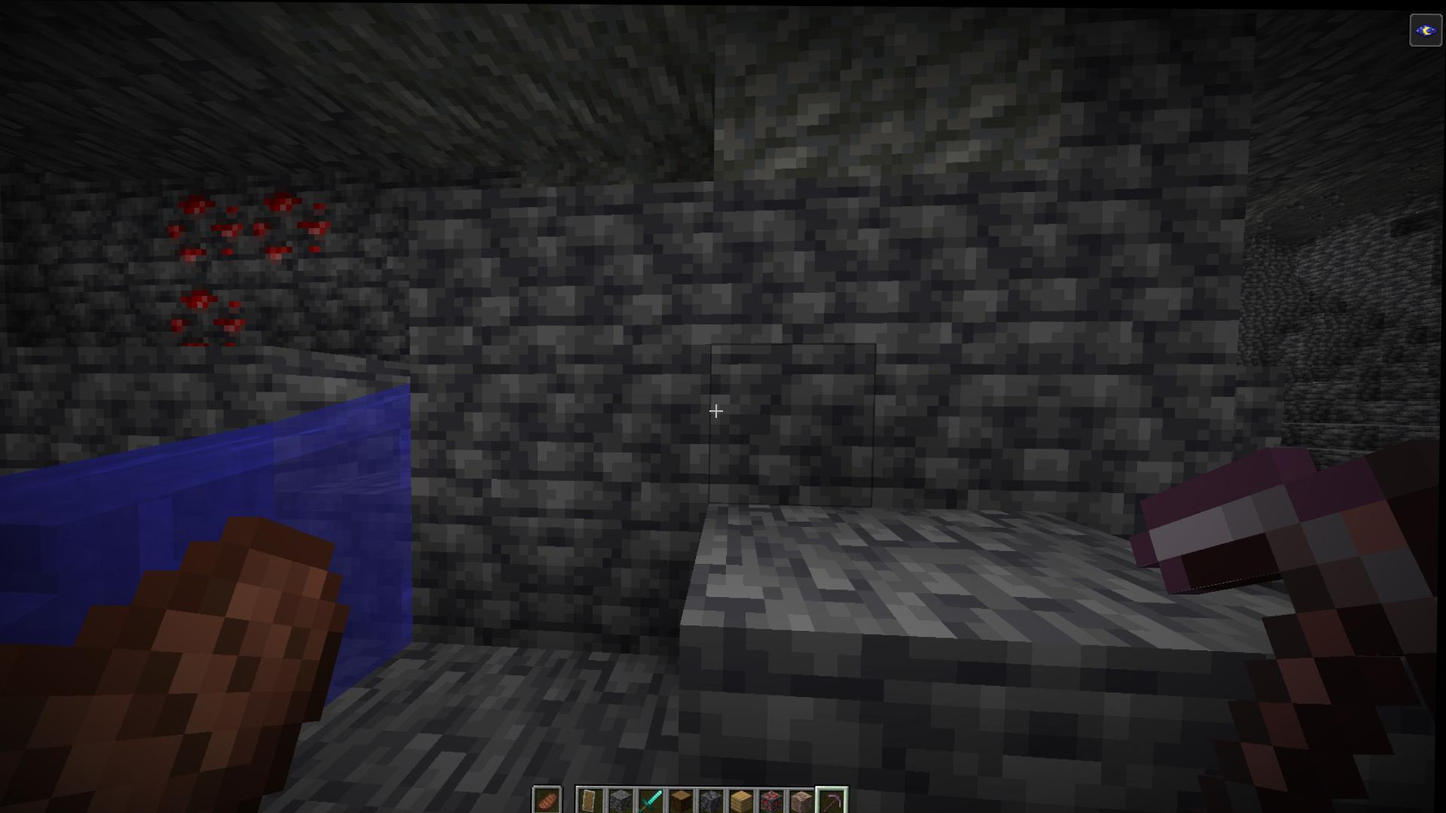redstone ore: (157, 187, 252, 275), (250, 180, 338, 270), (161, 283, 253, 354)
